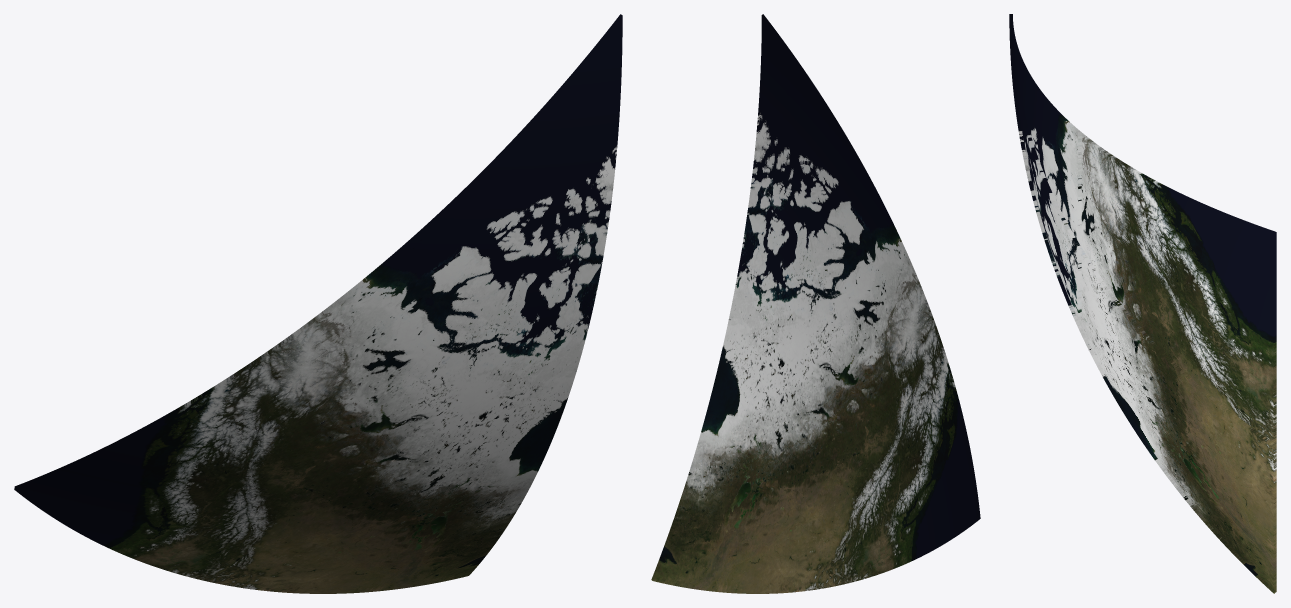
3 views of the same model, side by side, from view 1: azimuth 30°, elevation 25°; view 2: azimuth 150°, elevation 25°; view 3: azimuth 270°, elevation 25° (orthographic). The views are drawn at different scales.
Visible parts, largest first — view 1: DefaultName.007, DefaultName.005, DefaultName.001, DefaultName.003; view 2: DefaultName.005, DefaultName.007, DefaultName.003, DefaultName.001; view 3: DefaultName.007, DefaultName.005, DefaultName.001, DefaultName.003.
Part boxes in pixels (bbox=[...]): DefaultName.007: bbox=[14, 302, 448, 584]; DefaultName.005: bbox=[223, 351, 582, 593]; DefaultName.001: bbox=[335, 14, 622, 355]; DefaultName.003: bbox=[449, 16, 622, 360]; DefaultName.005: bbox=[651, 298, 838, 593]; DefaultName.007: bbox=[828, 264, 980, 587]; DefaultName.003: bbox=[733, 15, 830, 305]; DefaultName.001: bbox=[762, 14, 911, 301]; DefaultName.007: bbox=[1078, 132, 1276, 445]; DefaultName.005: bbox=[1078, 248, 1276, 593]; DefaultName.001: bbox=[1013, 22, 1080, 247]; DefaultName.003: bbox=[1009, 14, 1081, 327].
Size of the model in its own units: 31944 by 45176 by 18870.
Materials: 4 (4 with a texture image).
